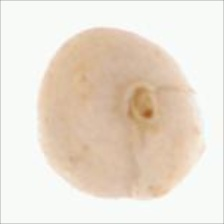L3: (123, 81, 160, 123)
L4: (37, 26, 204, 199)
